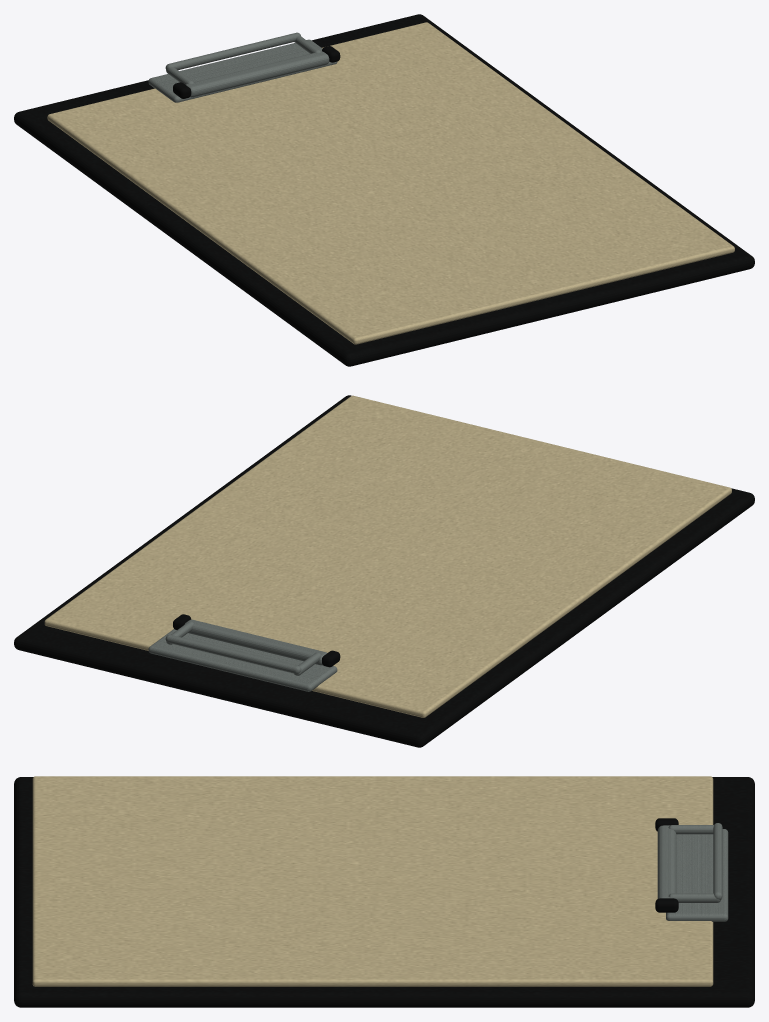
The model's file is Clipboard.glb.
3 renders of one model, top to bottom at view 1: azimuth 30°, elevation 25°; view 2: azimuth 150°, elevation 25°; view 3: azimuth 270°, elevation 25°, orthographic. The views are drawn at different scales.
Visible parts, largest first — view 1: Clipboard; view 2: Clipboard; view 3: Clipboard.
Boxes of the visible parts, box(x1,y1,x2,y2) form: Clipboard: box(14, 14, 754, 366); Clipboard: box(14, 395, 754, 747); Clipboard: box(14, 776, 754, 1007).
Bounding box in the file's own units: 0.226 × 0.02 × 0.32.
Materials: 1 (1 with a texture image).
